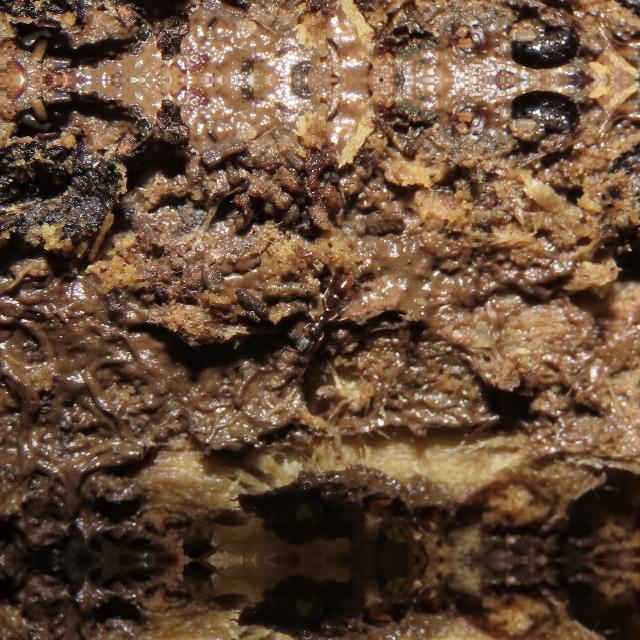Ponera: (272, 262, 356, 366)
